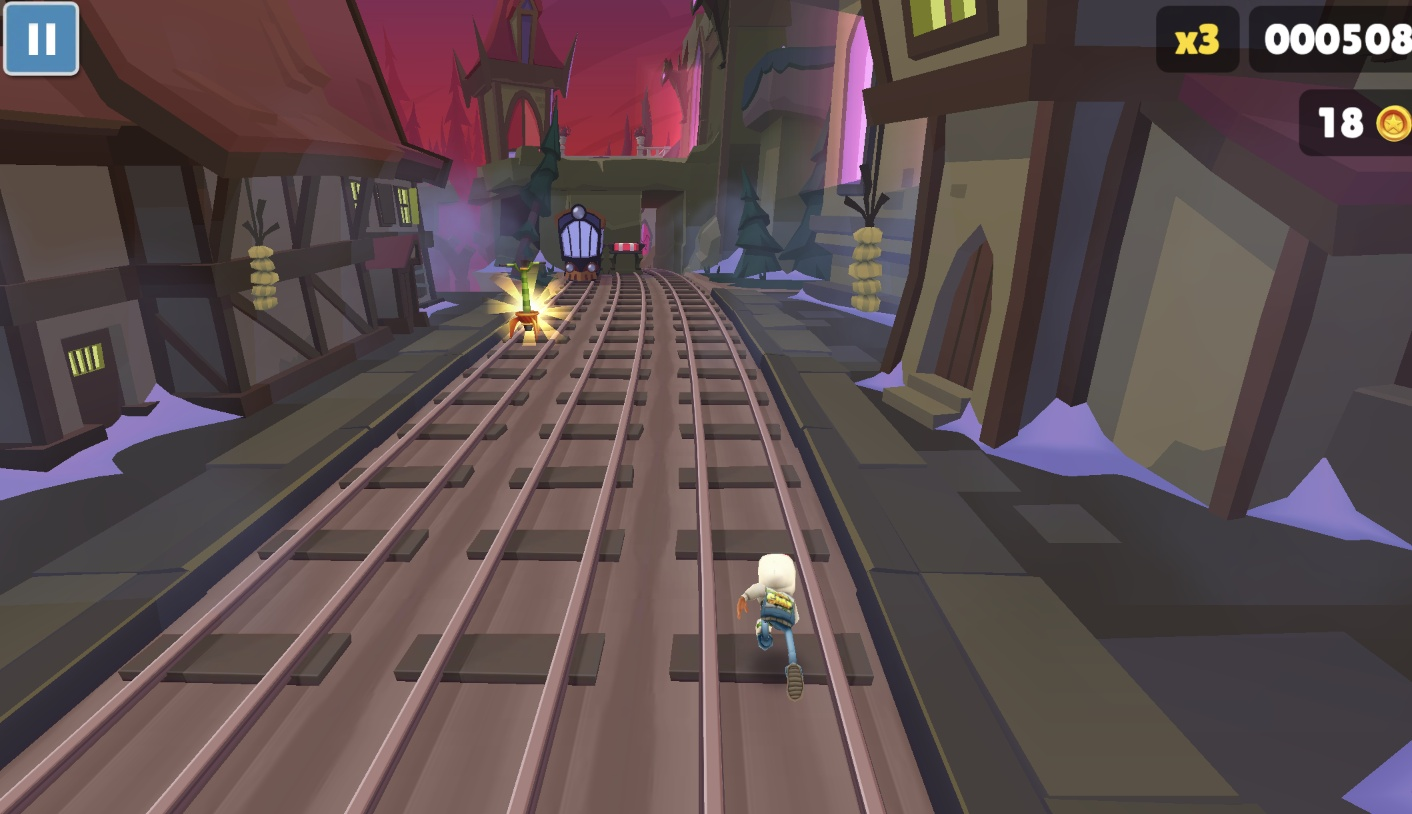ground_barrier: (602, 242, 645, 277)
train: (552, 204, 605, 288)
